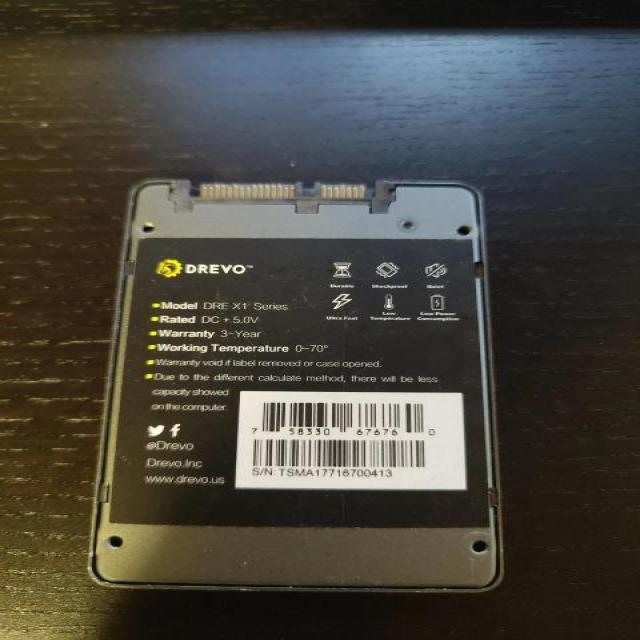DISK: (84, 177, 508, 597)
